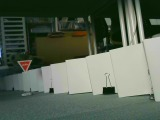stop: (17, 59, 33, 73)
